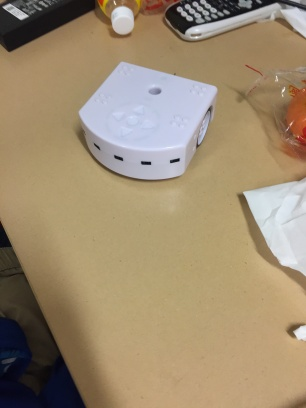thymio: (62, 56, 221, 184)
